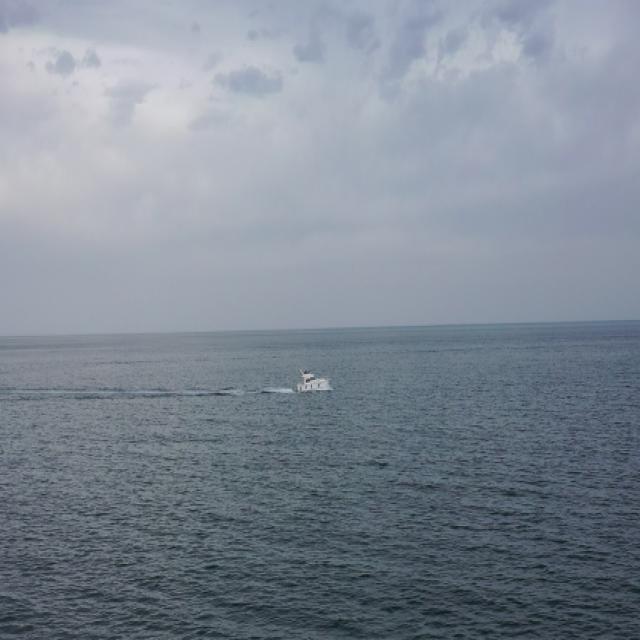houseboat: (294, 358, 335, 395)
